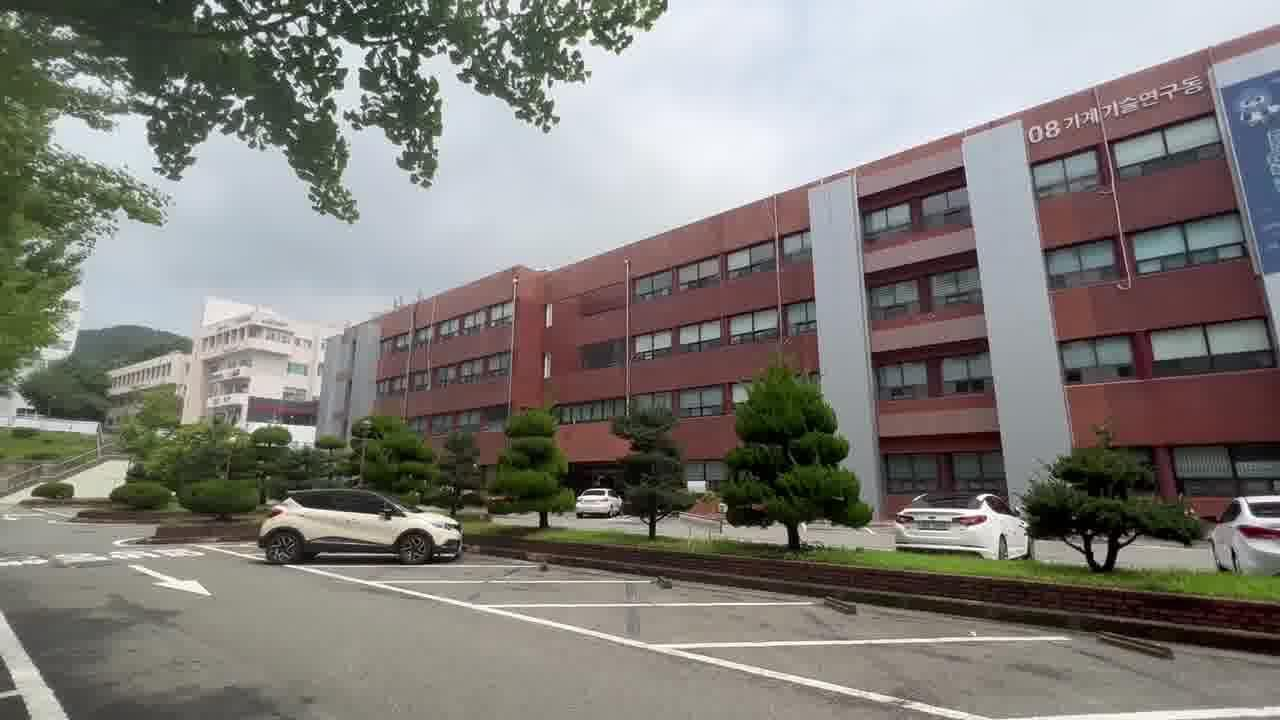building: (441, 74, 1208, 404)
